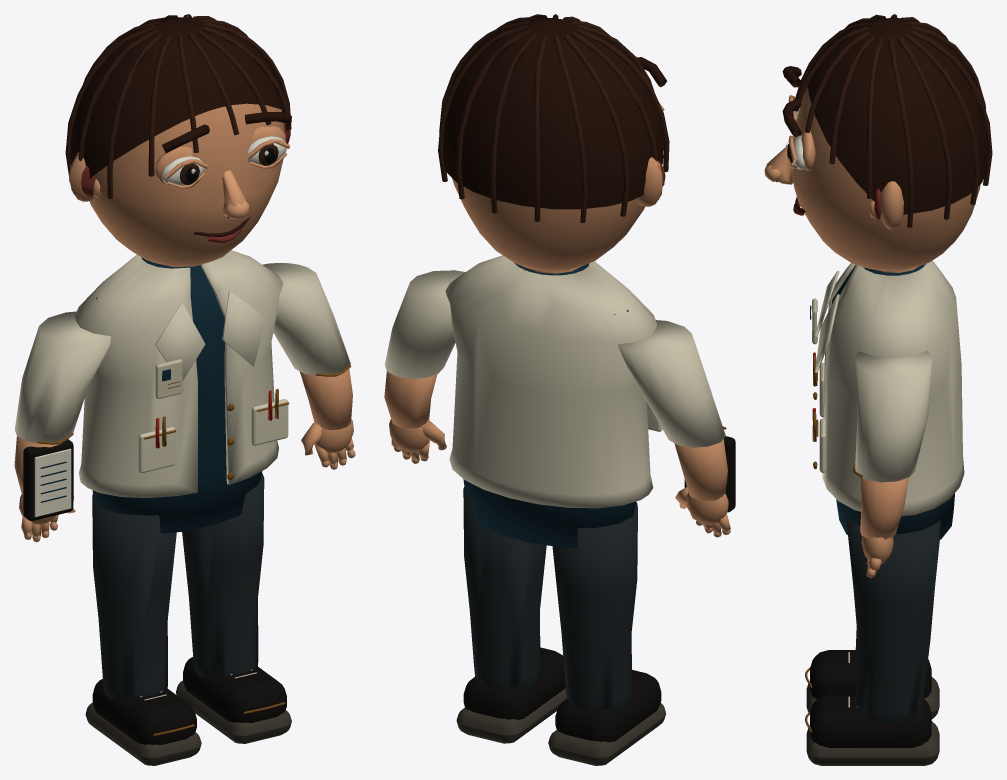
Rendered from doctor-50.glb.
3 renders of one model, left to right at view 1: azimuth 30°, elevation 25°; view 2: azimuth 150°, elevation 25°; view 3: azimuth 270°, elevation 25°, orthographic.
Visible parts, largest first — view 1: Body, Head, LegL, LegR, ArmL, ArmR; view 2: Body, Head, LegL, LegR, ArmL, ArmR; view 3: Head, Body, LegR, ArmR, LegL.
Boxes of the visible parts, bbox=[...] form: Body: bbox=[74, 250, 289, 533]; Head: bbox=[65, 14, 291, 266]; LegL: bbox=[85, 494, 201, 765]; LegR: bbox=[176, 473, 291, 743]; ArmL: bbox=[14, 311, 111, 542]; ArmR: bbox=[262, 263, 355, 469]; Body: bbox=[445, 255, 662, 547]; Head: bbox=[438, 14, 669, 271]; LegL: bbox=[548, 502, 665, 765]; LegR: bbox=[456, 487, 566, 743]; ArmL: bbox=[617, 320, 735, 537]; ArmR: bbox=[384, 270, 465, 463]; Head: bbox=[764, 14, 992, 270]; Body: bbox=[810, 260, 964, 540]; LegR: bbox=[805, 517, 940, 765]; ArmR: bbox=[853, 350, 932, 578]; LegL: bbox=[805, 627, 939, 719].
Bounding box in the file's own units: 0.6605 × 1.33 × 0.3876.
